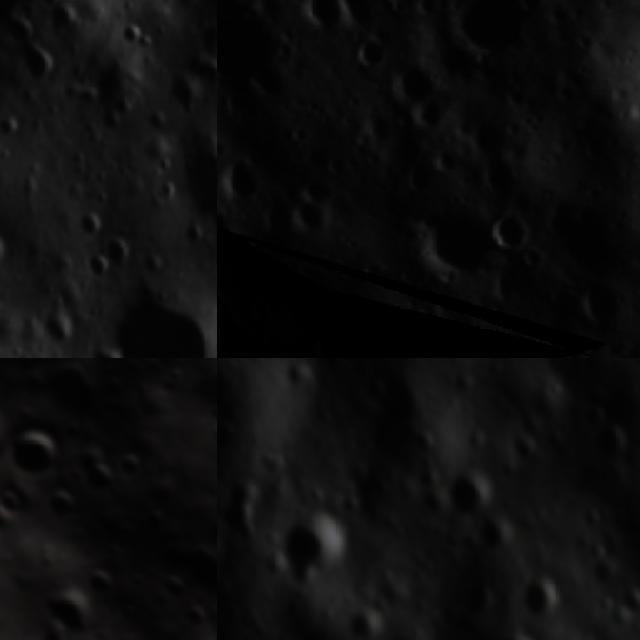crater: (397, 181, 514, 298), (372, 299, 590, 358), (86, 279, 217, 358), (436, 0, 534, 71), (282, 509, 360, 583), (474, 196, 545, 268), (37, 358, 112, 425), (378, 48, 448, 119), (0, 415, 69, 486), (36, 576, 109, 640), (170, 143, 217, 234), (217, 560, 266, 640), (571, 269, 632, 330), (172, 525, 217, 600), (217, 149, 274, 208), (339, 22, 395, 79), (445, 464, 500, 522), (286, 0, 359, 42), (512, 569, 568, 623), (184, 358, 217, 446), (69, 444, 120, 496), (217, 300, 261, 358), (229, 487, 270, 542), (589, 420, 634, 466), (81, 555, 126, 600), (479, 518, 521, 562), (101, 233, 143, 274), (167, 74, 207, 116), (39, 309, 81, 348), (138, 496, 178, 536), (111, 443, 149, 483), (44, 481, 82, 520), (475, 329, 524, 358), (178, 596, 216, 633), (363, 372, 397, 412), (461, 588, 498, 624), (507, 428, 544, 464), (612, 582, 640, 629), (0, 395, 19, 464), (0, 475, 30, 518), (552, 327, 592, 358), (77, 207, 109, 243), (366, 0, 424, 18), (588, 561, 624, 590), (348, 617, 391, 640), (158, 570, 189, 601), (413, 466, 447, 494), (409, 428, 436, 462), (0, 510, 16, 558), (586, 544, 612, 570), (217, 204, 232, 246), (0, 232, 13, 277), (310, 358, 347, 373), (14, 358, 37, 372)
